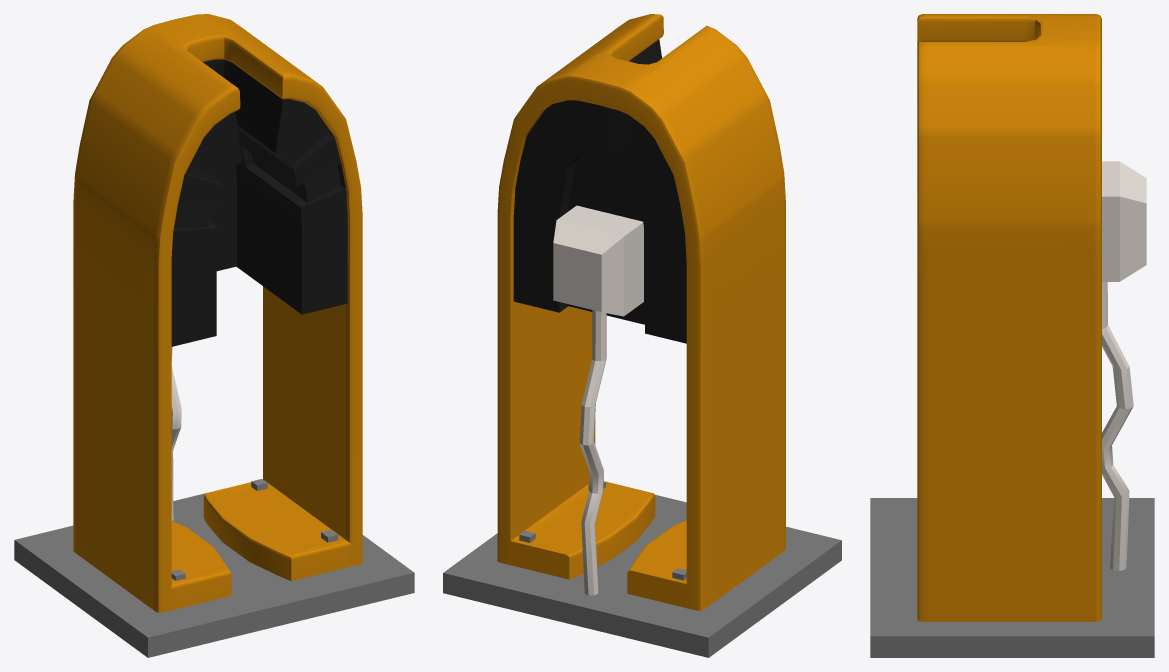
Rendered from scooterstand.fbx.
3 views of the same model, side by side, from view 1: azimuth 30°, elevation 25°; view 2: azimuth 150°, elevation 25°; view 3: azimuth 270°, elevation 25° (orthographic). The views are drawn at different scales.
Visible parts, largest first — view 1: ScooterStand; view 2: ScooterStand; view 3: ScooterStand.
Boxes of the visible parts, x1,y1,x2,y2 form: ScooterStand: [14, 14, 414, 657]; ScooterStand: [443, 14, 841, 657]; ScooterStand: [870, 14, 1154, 657].
Bounding box in the file's own units: 25.66 × 48.57 × 22.28.
